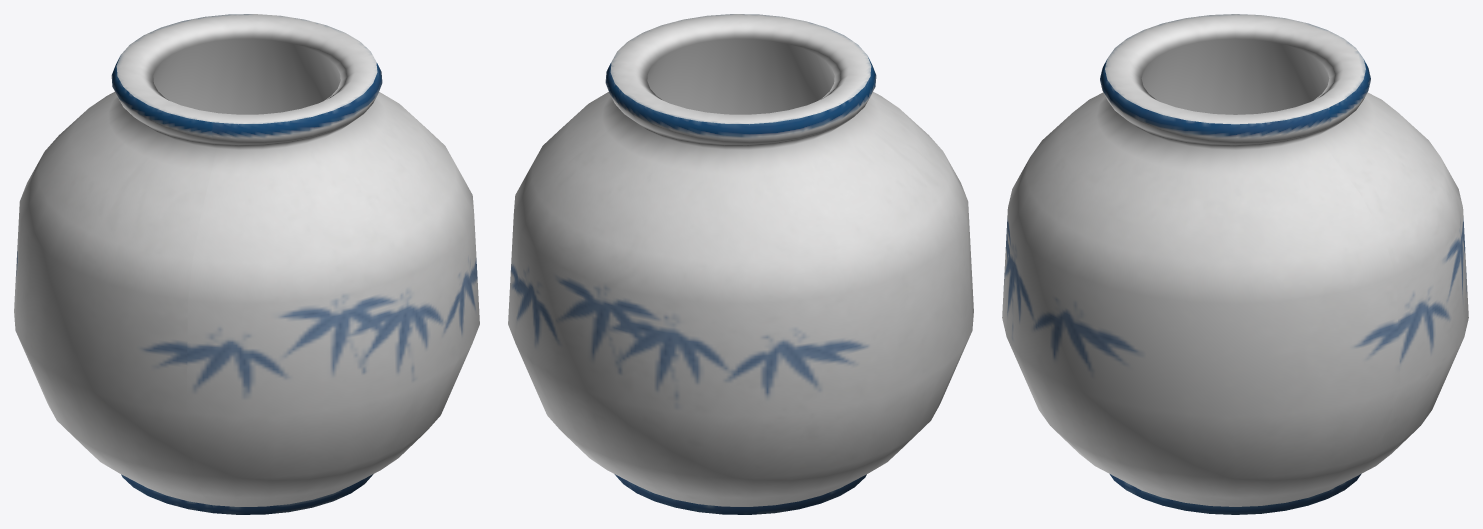
Rendered from jov_porcelain02a.fbx.
3 renders of one model, left to right at view 1: azimuth 30°, elevation 25°; view 2: azimuth 150°, elevation 25°; view 3: azimuth 270°, elevation 25°, orthographic.
Visible parts, largest first — view 1: jov_porcelain02a; view 2: jov_porcelain02a; view 3: jov_porcelain02a.
Boxes of the visible parts, box(x1,y1,x2,y2) form: jov_porcelain02a: box(14, 14, 479, 514); jov_porcelain02a: box(508, 14, 973, 514); jov_porcelain02a: box(1002, 14, 1468, 514).
Bounding box in the file's own units: 0.3247 × 0.2996 × 0.3247.
